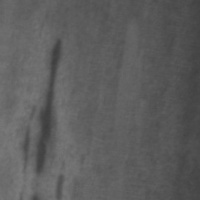inclusion: (14, 31, 72, 182)
